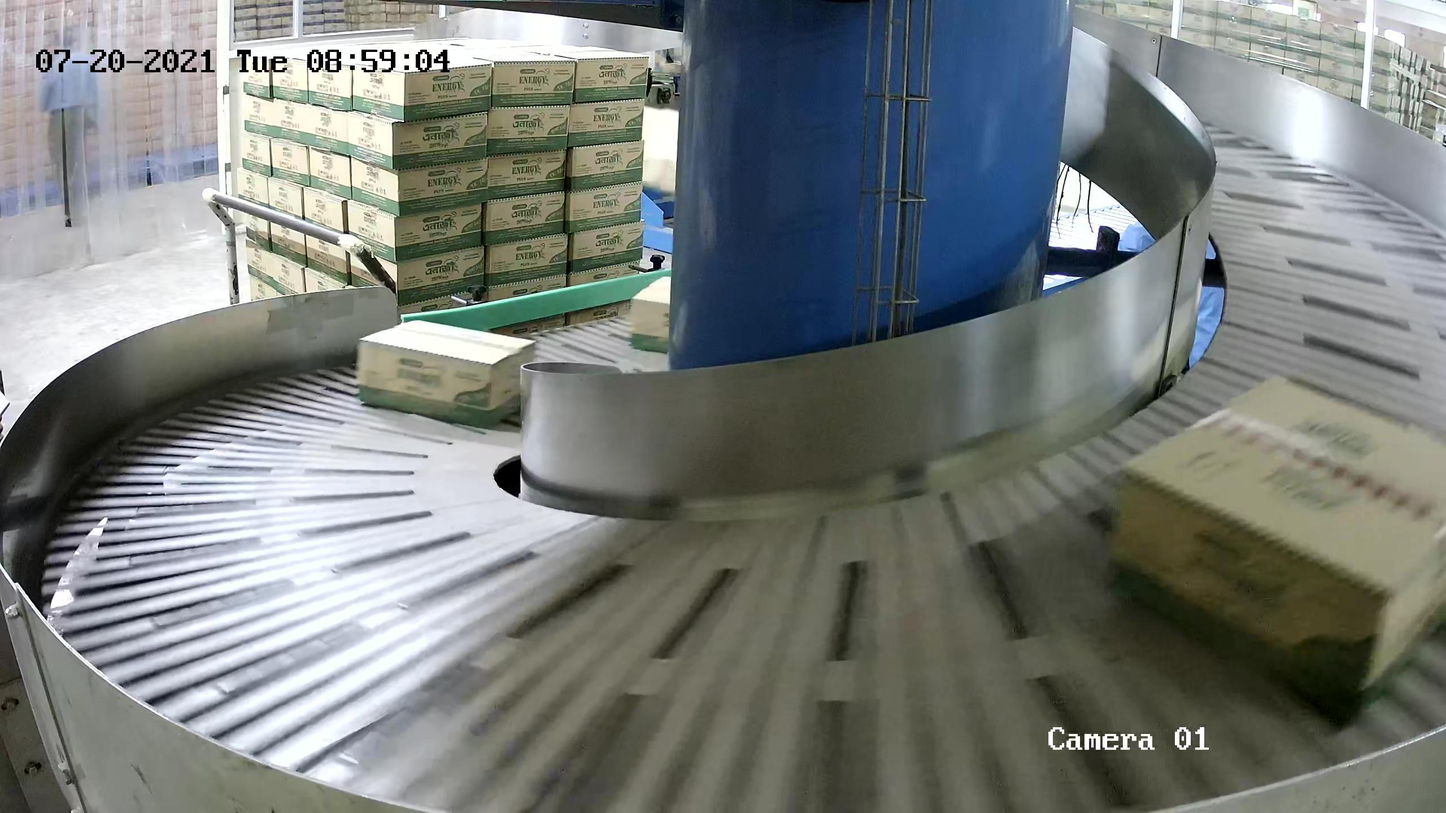Box: (1102, 366, 1446, 736), (355, 316, 538, 431), (628, 273, 673, 354)
